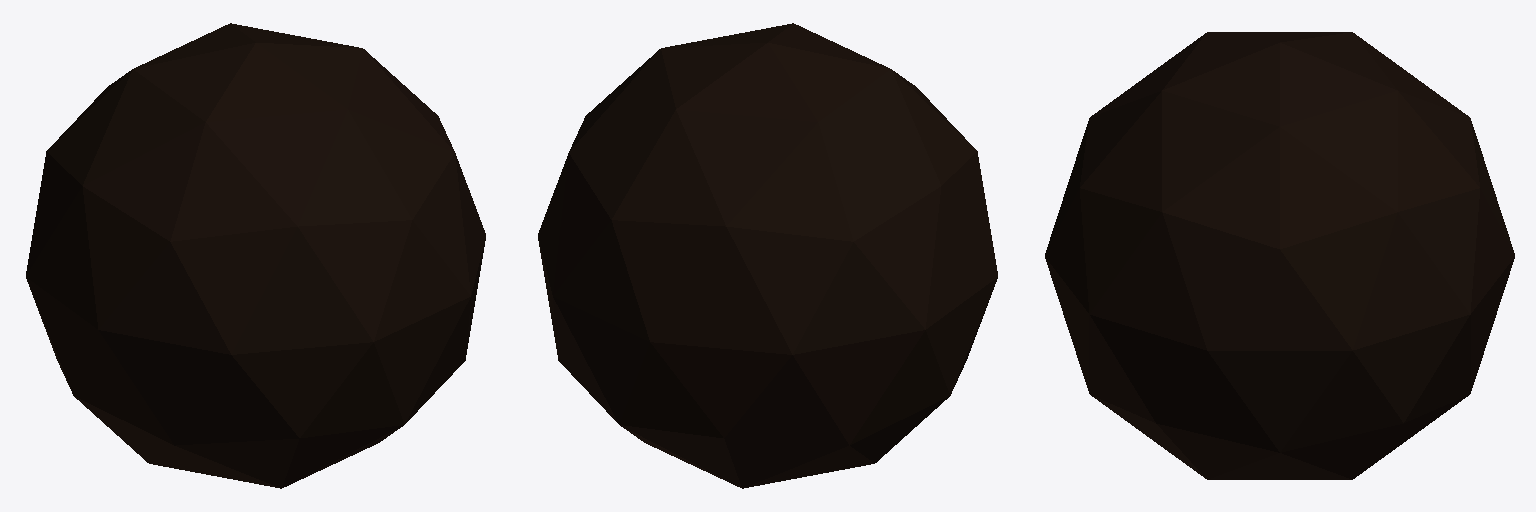
File: cave_tile_blocker.obj
The picture shows the model from 3 angles: view 1: azimuth 30°, elevation 25°; view 2: azimuth 150°, elevation 25°; view 3: azimuth 270°, elevation 25°; orthographic projection.
Parts seen in each view (by area): view 1: cave_tile_blocker; view 2: cave_tile_blocker; view 3: cave_tile_blocker.
Boxes of the visible parts, x1=… form: cave_tile_blocker: x1=26, y1=23, x2=485, y2=488; cave_tile_blocker: x1=538, y1=23, x2=997, y2=488; cave_tile_blocker: x1=1045, y1=32, x2=1514, y2=479.
Bounding box in the file's own units: 5.41 × 5.69 × 5.69.